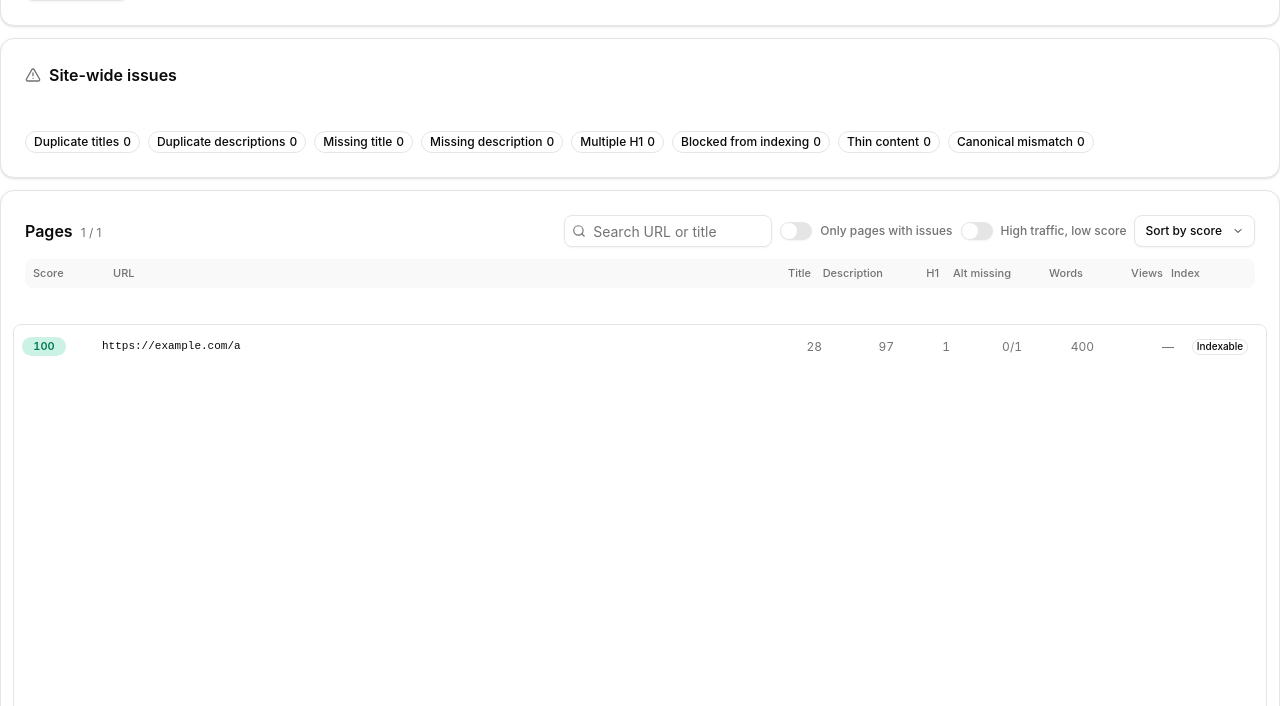
SeoTab › shows the GA4 traffic column and the AI section / 顯示流量欄與 AI 區塊
(page scrolled)
Check: the text "Views" is shown, box [1131,266,1163,280]
Click the text "https://example.com/a": click(171, 346) [102,340,241,352]
(page scrolled)
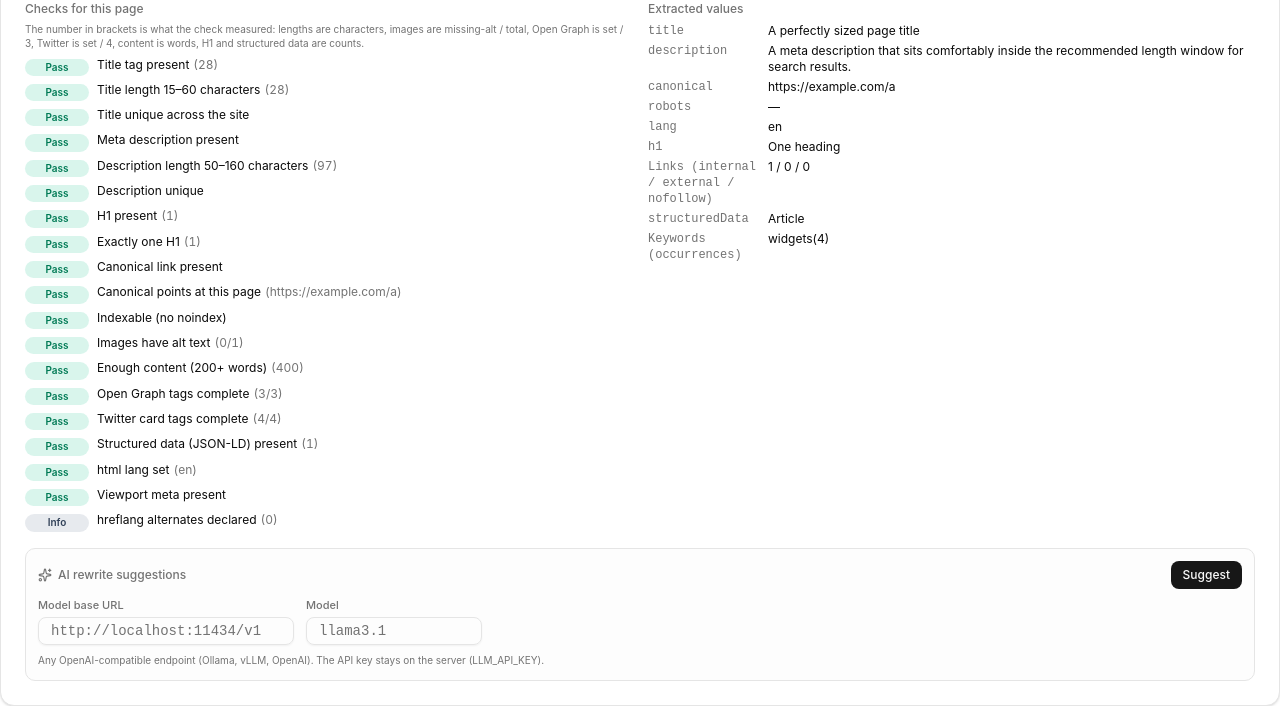
Check: the text "AI rewrite suggestions" is shown, box [38,567,186,583]
Check: the text "Model base URL" is shown, box [38,598,124,612]
